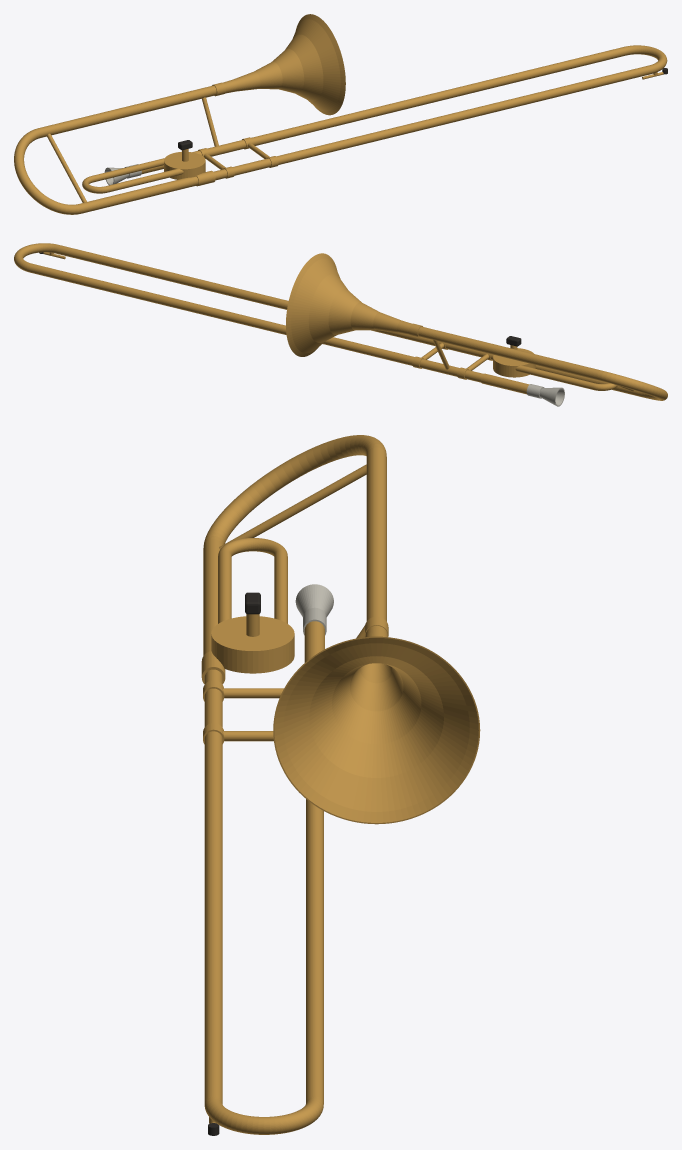
The model's file is full.fbx.
3 renders of one model, top to bottom at view 1: azimuth 30°, elevation 25°; view 2: azimuth 150°, elevation 25°; view 3: azimuth 270°, elevation 25°, orthographic. The views are drawn at different scales.
Visible parts, largest first — view 1: Long hollow slide U, Open flared bell with inner wall, Rear tuning U and bell stem, Short attachment U, Generic rotary attachment casing, Bell rear support; view 2: Long hollow slide U, Open flared bell with inner wall, Rear tuning U and bell stem, Short attachment U, Generic rotary attachment casing, Generic mouthpiece receiver, Generic open mouthpiece cup; view 3: Open flared bell with inner wall, Long hollow slide U, Rear tuning U and bell stem, Generic rotary attachment casing, Short attachment U, Bell rear support.
Boxes of the visible parts, x1,y1,x2,y2 form: Long hollow slide U: (192, 45, 667, 180); Open flared bell with inner wall: (223, 14, 345, 115); Rear tuning U and bell stem: (14, 85, 216, 214); Short attachment U: (82, 158, 183, 193); Generic rotary attachment casing: (164, 151, 205, 179); Bell rear support: (47, 133, 86, 202); Long hollow slide U: (14, 243, 493, 382); Open flared bell with inner wall: (286, 253, 411, 356); Rear tuning U and bell stem: (418, 326, 667, 400); Short attachment U: (515, 365, 617, 390); Generic rotary attachment casing: (493, 348, 535, 377); Generic mouthpiece receiver: (481, 373, 529, 394); Generic open mouthpiece cup: (539, 387, 564, 406); Open flared bell with inner wall: (273, 625, 480, 824); Long hollow slide U: (204, 669, 323, 1134); Rear tuning U and bell stem: (203, 435, 386, 655); Generic rotary attachment casing: (211, 616, 294, 673); Short attachment U: (218, 538, 287, 623); Bell rear support: (219, 464, 366, 549).
Size of the model in its own units: 130 by 19.9 by 24.75.
